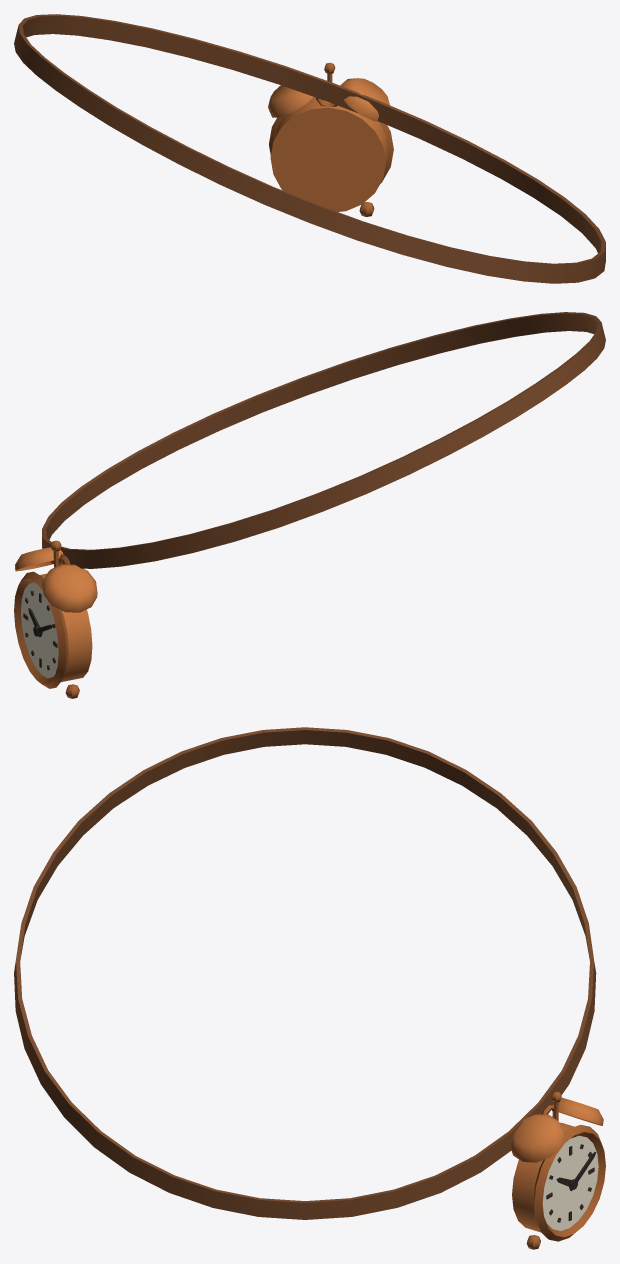
File: cos_a_alarm.glb
3 views of the same model, one above another, from view 1: azimuth 30°, elevation 25°; view 2: azimuth 150°, elevation 25°; view 3: azimuth 270°, elevation 25° (orthographic). The views are drawn at different scales.
Visible parts, largest first — view 1: a_alarm, a_alarm_metal; view 2: a_alarm, a_alarm_metal; view 3: a_alarm, a_alarm_metal.
Part boxes in pixels (x1,y1,x2,y2): a_alarm: (14, 14, 605, 283); a_alarm_metal: (268, 62, 393, 216); a_alarm: (21, 312, 605, 678); a_alarm_metal: (14, 540, 97, 698); a_alarm: (14, 727, 598, 1230); a_alarm_metal: (510, 1091, 605, 1249).
Bounding box in the file's own units: 1.08 × 0.6774 × 1.13.
